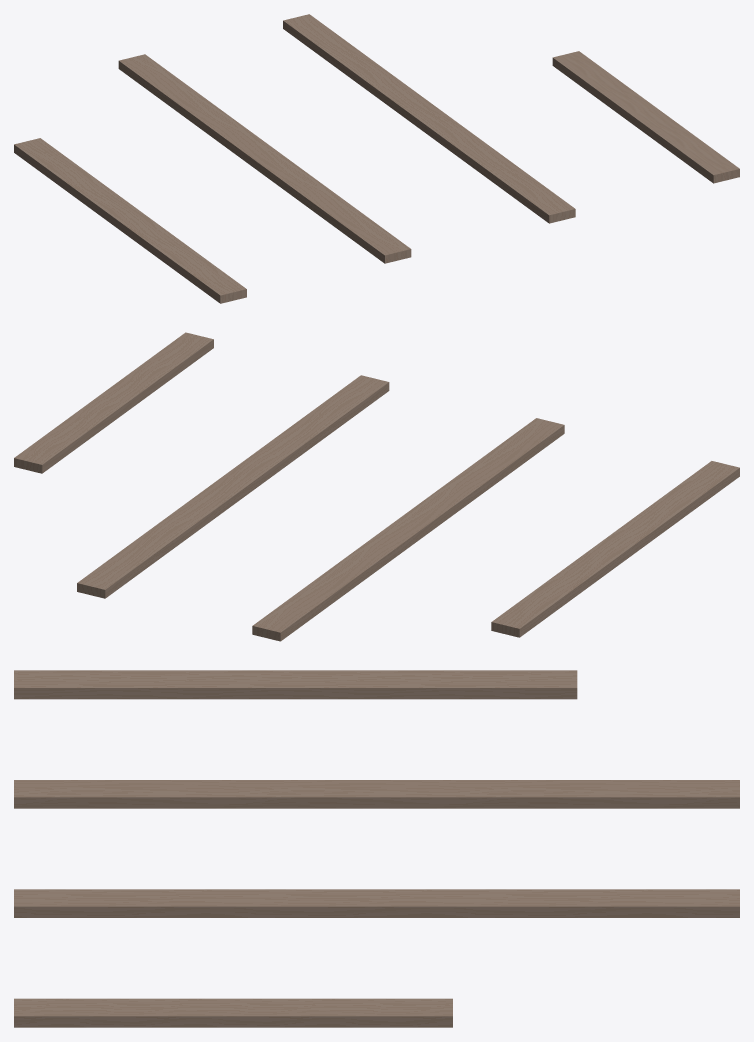
Rendered from kd_stage_135d18_3_10.glb.
The picture shows the model from 3 angles, top to bottom: view 1: azimuth 30°, elevation 25°; view 2: azimuth 150°, elevation 25°; view 3: azimuth 270°, elevation 25°; orthographic projection. The views are drawn at different scales.
Parts seen in each view (by area): view 1: kd_stage_135d18_3_10; view 2: kd_stage_135d18_3_10; view 3: kd_stage_135d18_3_10.
Part boxes in pixels (x1,y1,x2,y2): kd_stage_135d18_3_10: (14,14,739,303); kd_stage_135d18_3_10: (14,332,739,641); kd_stage_135d18_3_10: (14,670,739,1027).
Bounding box in the file's own units: 3.93 × 0.06 × 3.49.
Materials: 1 (1 with a texture image).
